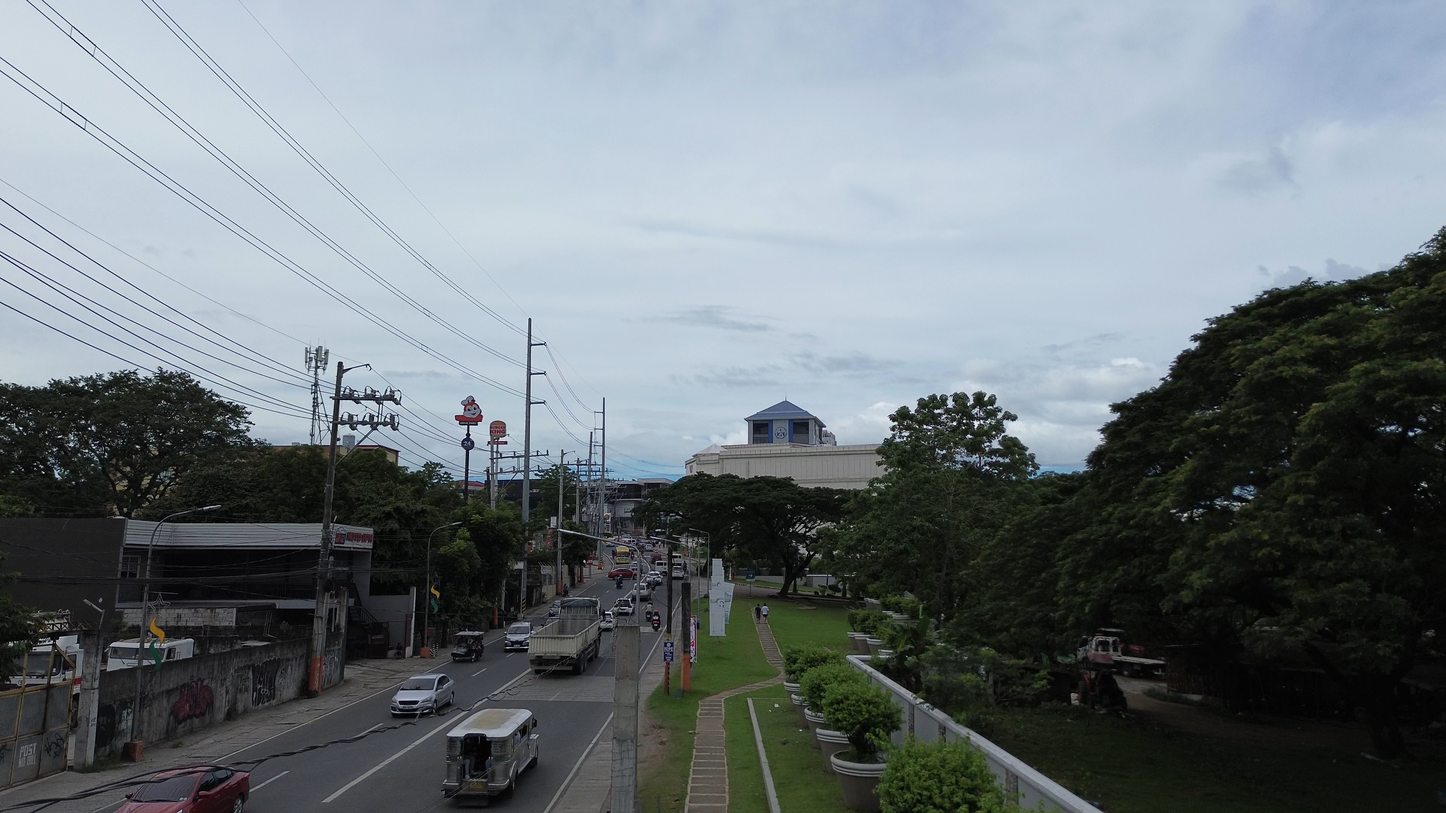bus: (613, 545, 632, 565)
car: (607, 567, 638, 579)
truck: (529, 598, 600, 674)
vehicle: (443, 708, 538, 804), (116, 768, 249, 813), (1076, 628, 1164, 676), (14, 635, 83, 691), (391, 673, 454, 716), (142, 638, 194, 663), (451, 631, 484, 662), (504, 621, 534, 651), (612, 597, 634, 615), (613, 545, 632, 565), (600, 610, 616, 630), (647, 570, 664, 586), (546, 600, 560, 619), (671, 563, 686, 580)
